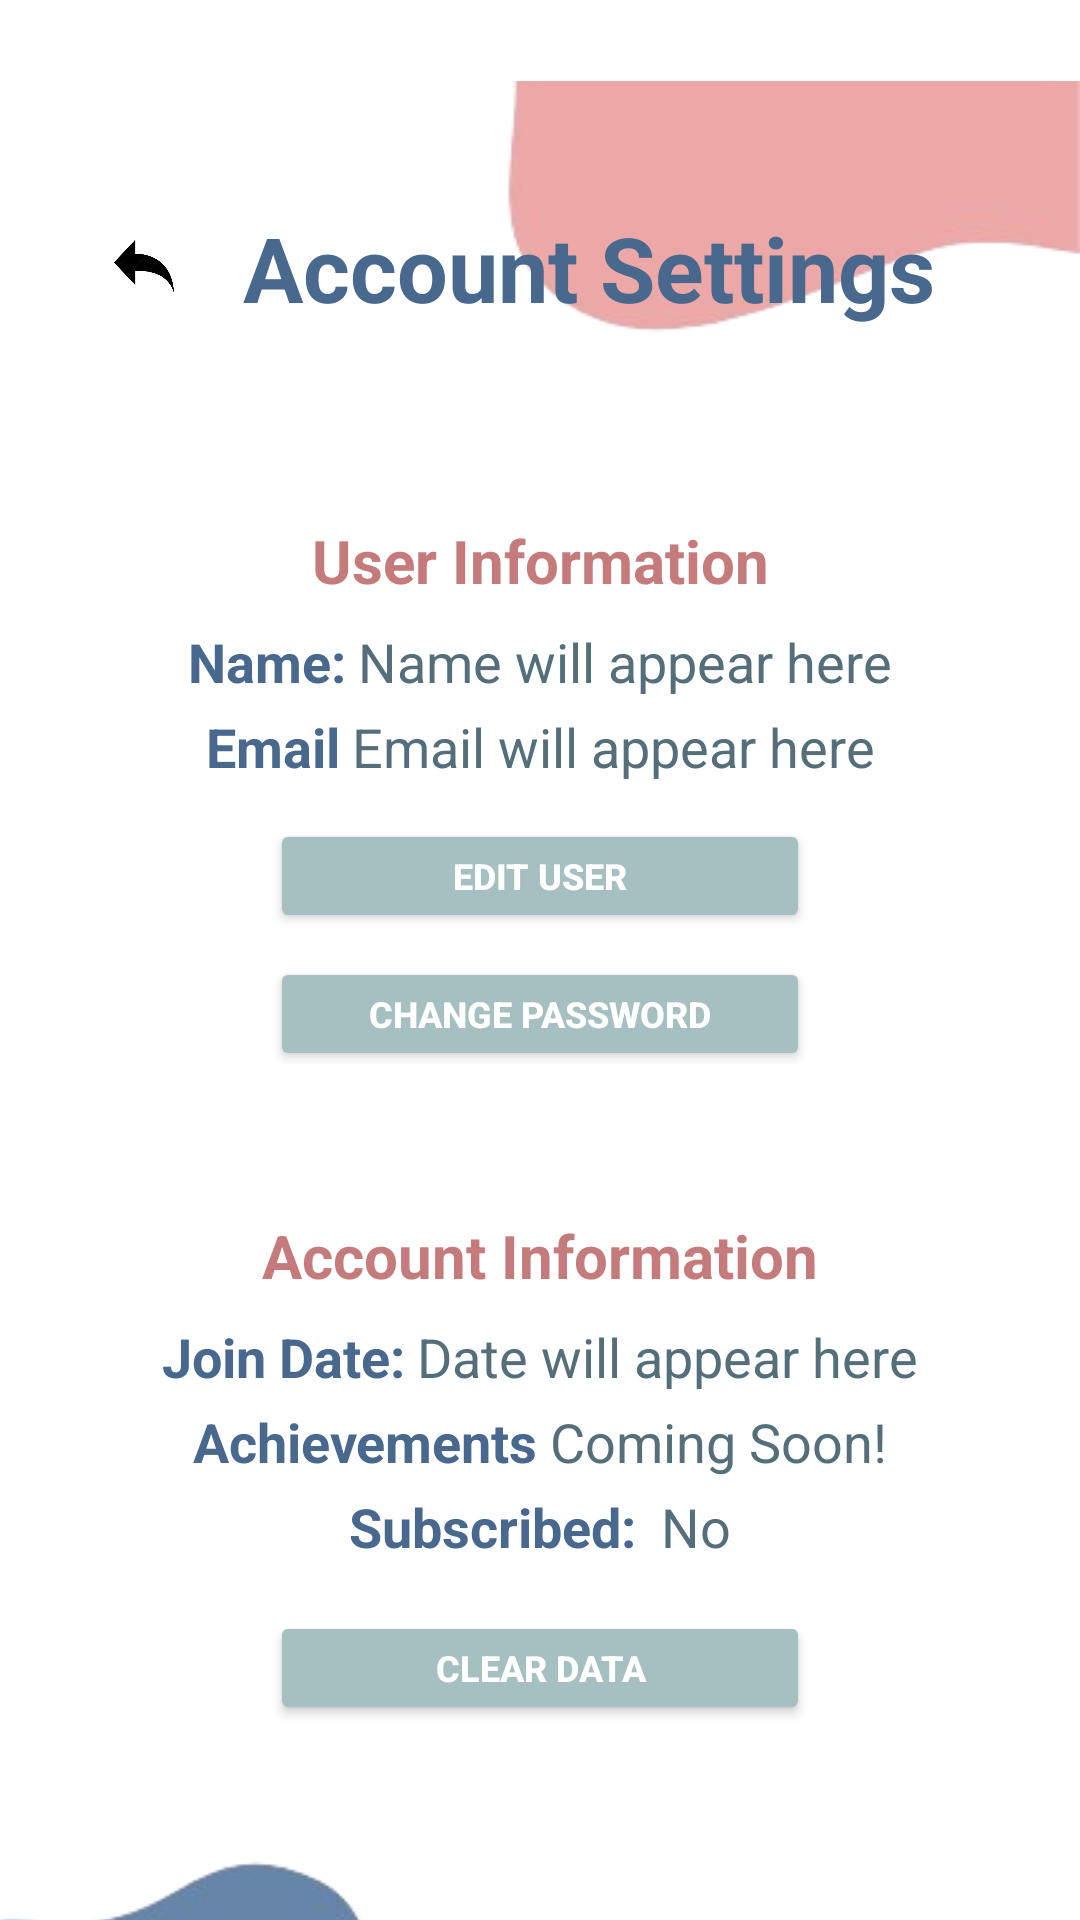

Screen size 1080 × 1920. Icon name, then its box in pixels as (left=x1, top=y1, right=x2, bottom=y2):
back: (left=114, top=240, right=174, bottom=292)
